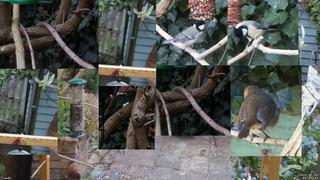great tit: (162, 20, 208, 54), (234, 20, 278, 54)
robin: (236, 85, 282, 145)
